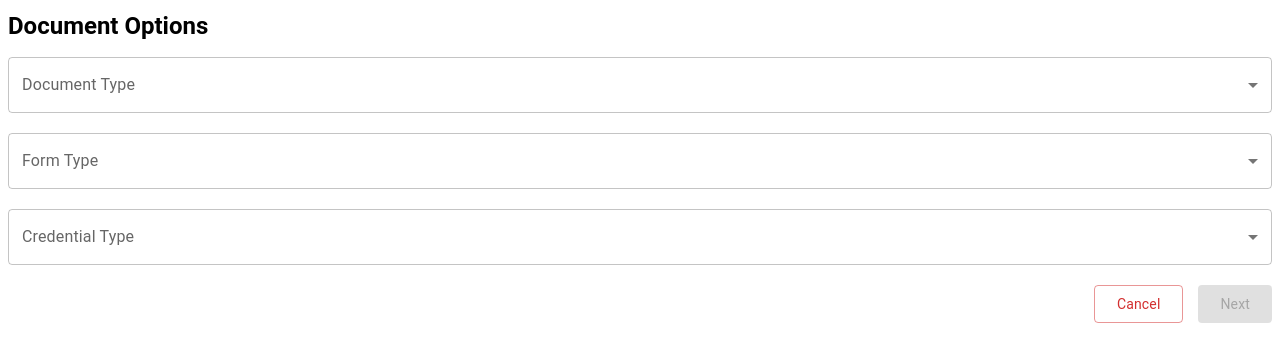
Scenario: VCOptions › document type › should display document types
Press the mouse on the dropdown next to "Document Type": coordinates (640, 85) [8,57,1272,113]
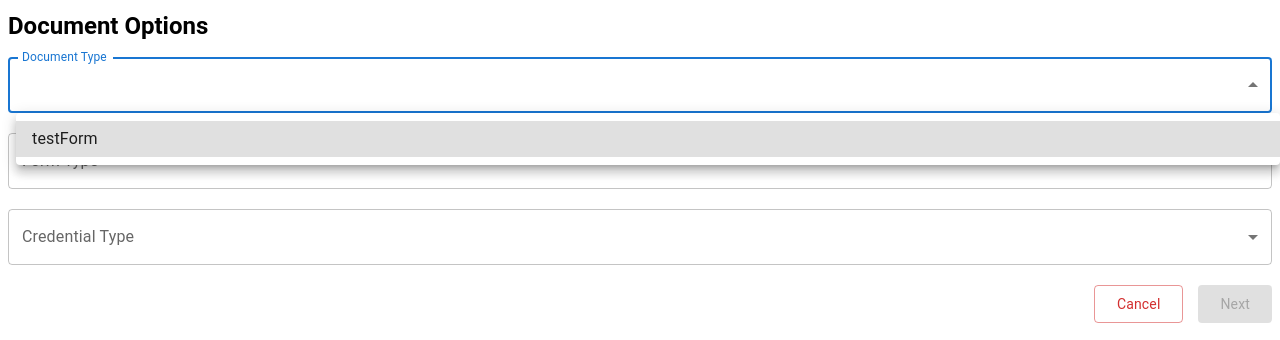
Result: the option "testForm" is shown at [16,121,1279,157]
